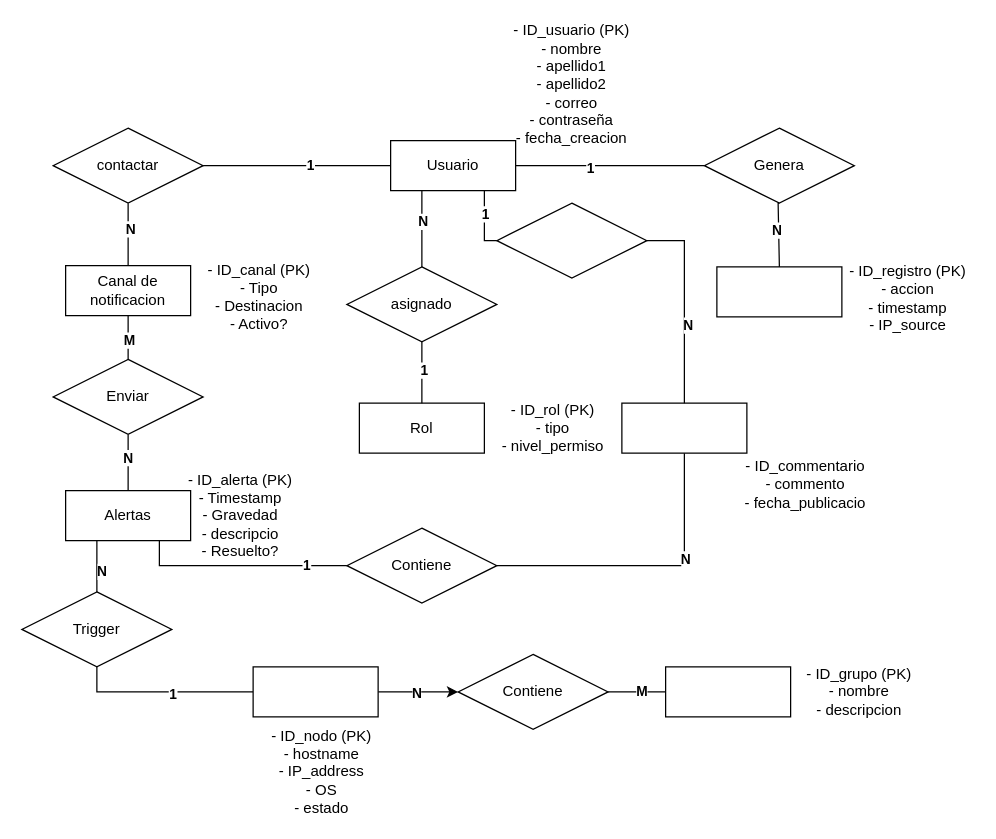
This 996x839 diagram has some shape labels left out. Here are the shapes that lost their labels. From the top down, the centre of each, then its label:
At (x=571, y=240): "escribe".
At (x=779, y=291): "Registros".
At (x=684, y=427): "Comentarios de alerta".
At (x=315, y=691): "Nodos".
At (x=727, y=691): "Grupo de servidor".
